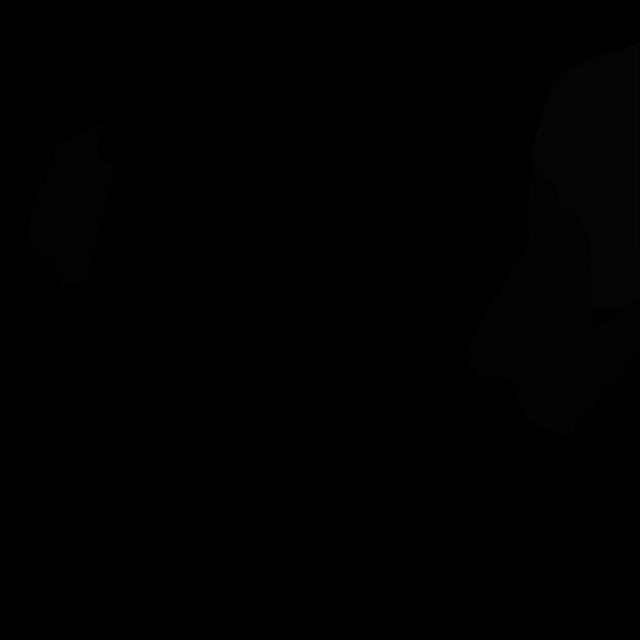cardboard: (466, 163, 640, 438), (24, 122, 114, 294)
soft_plastic: (531, 42, 640, 309)
